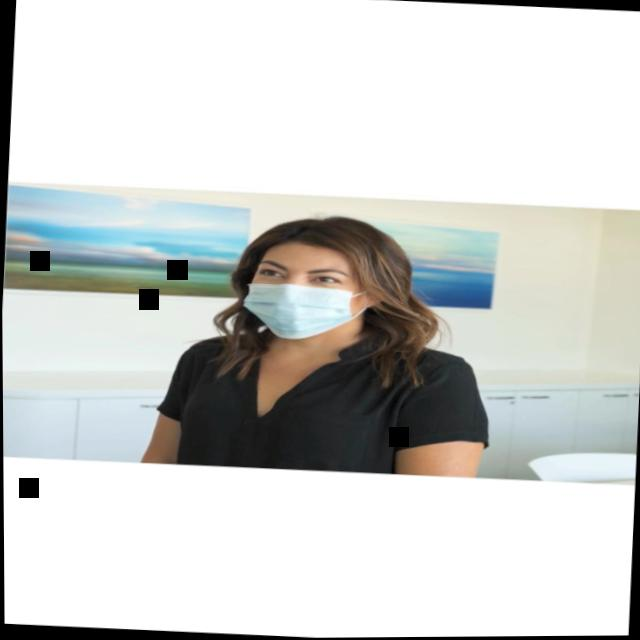Mask: (225, 231, 379, 344)
